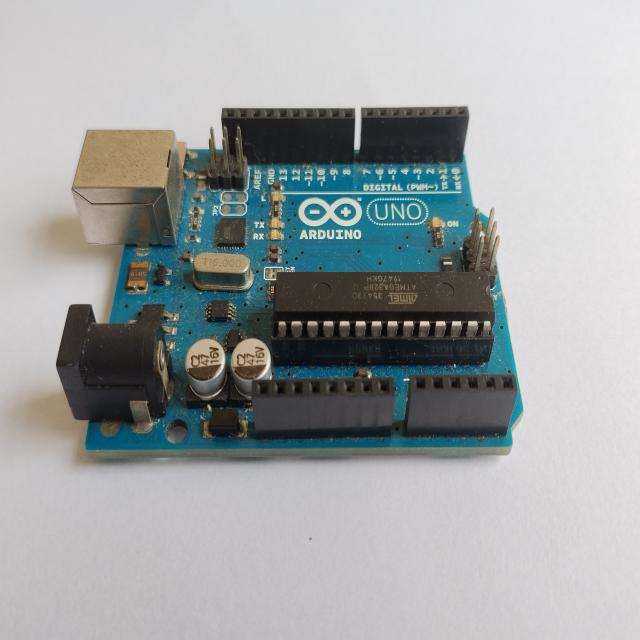arduino: (64, 86, 532, 476)
